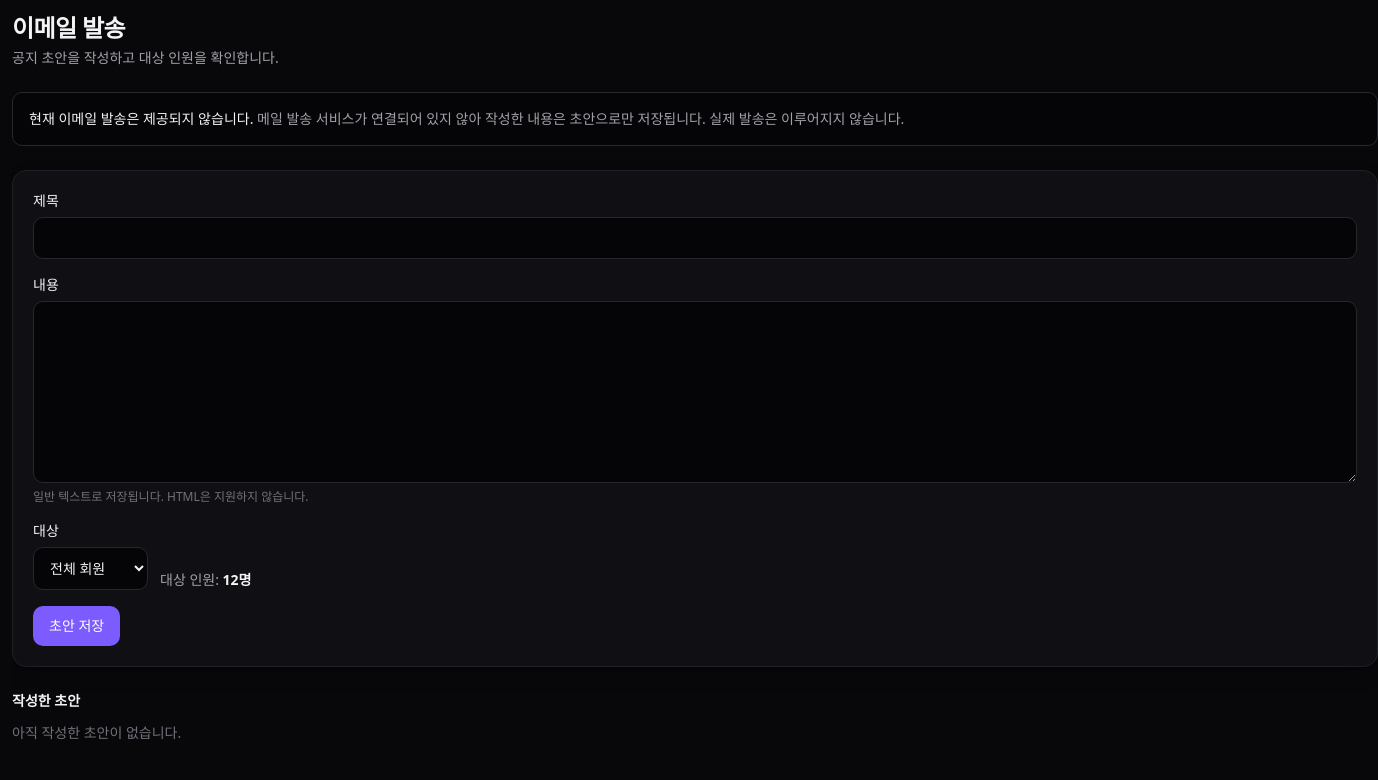
Test: email › confirms that a saved draft was not sent
In the field labelled "제목": (695, 238) [33,217,1357,259], type "8월 공지"
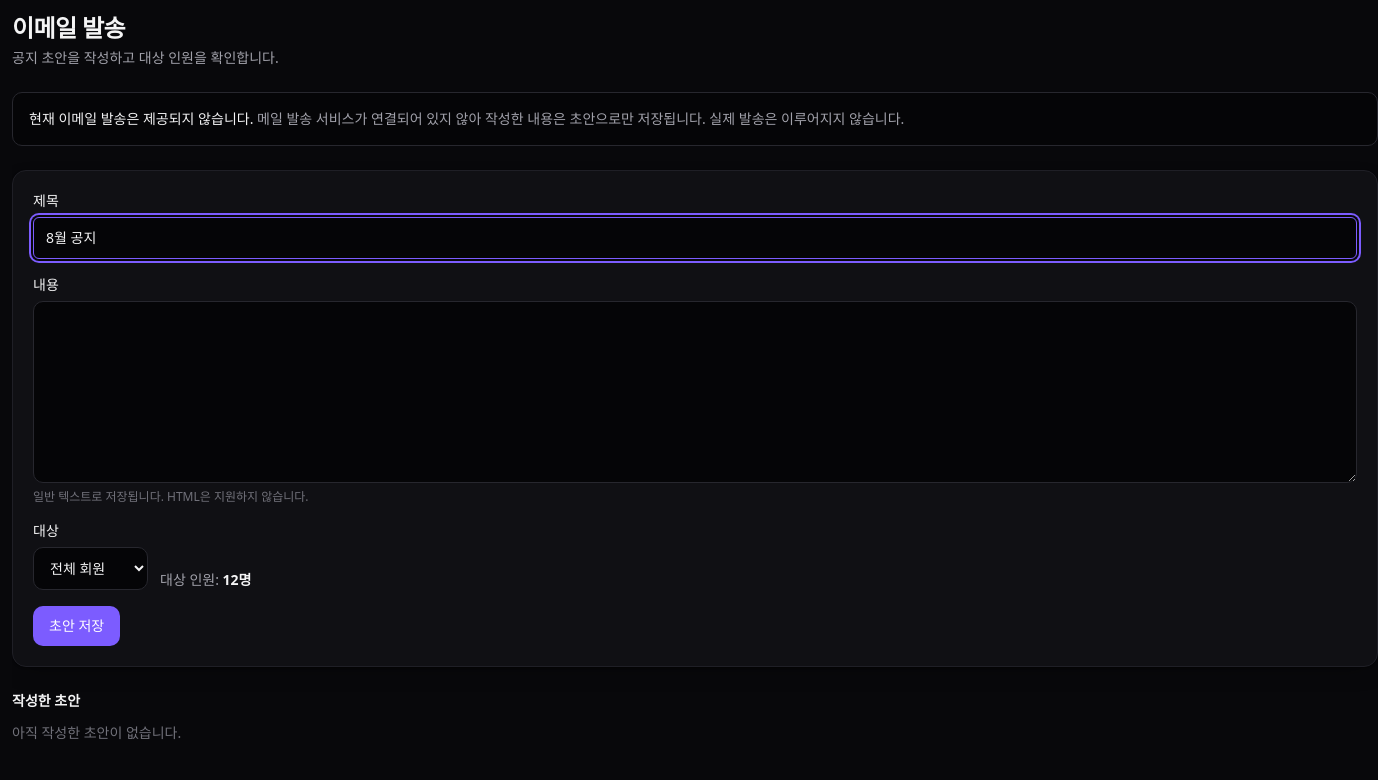
In the text box labelled "내용": (695, 392) [33,301,1357,483], type "새로운 기능을 소개합니다."
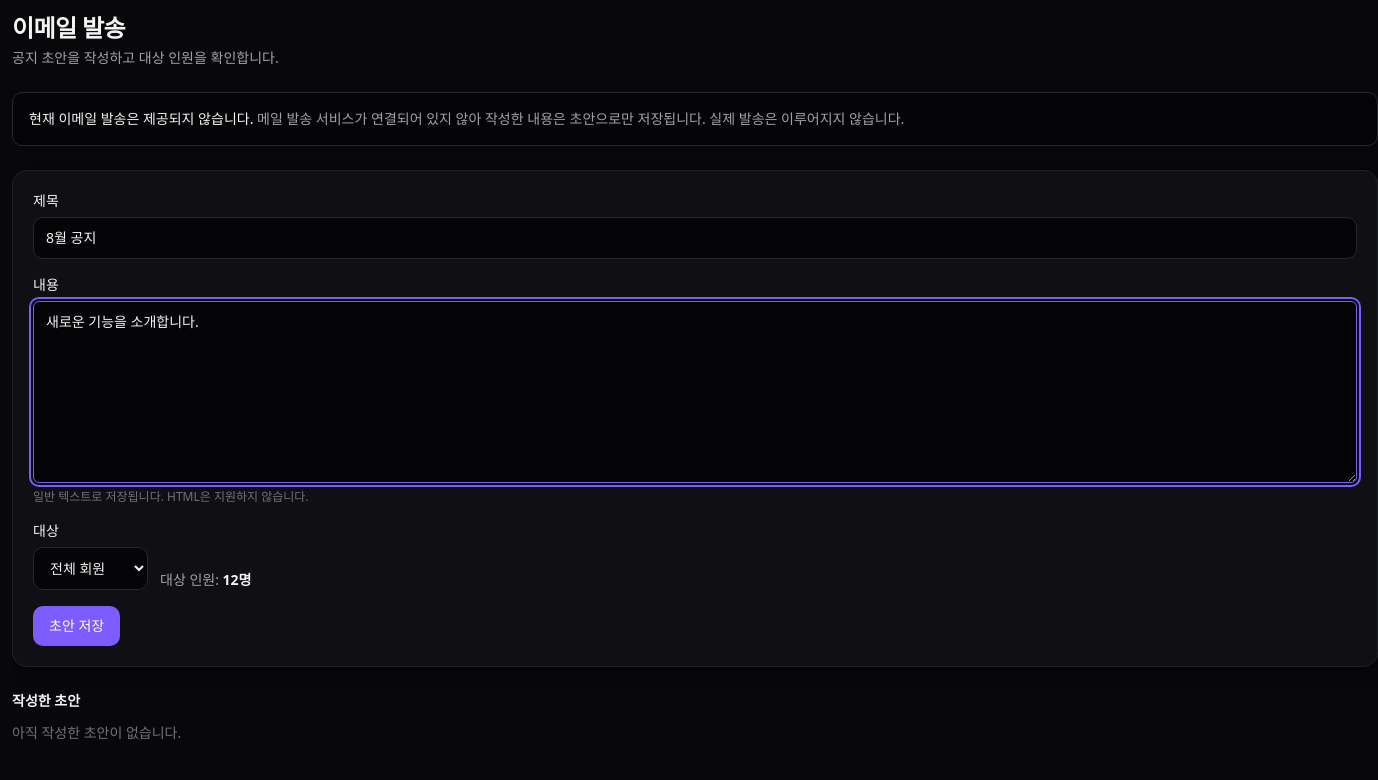
Click the button "초안 저장": (77, 626) [33,606,120,646]
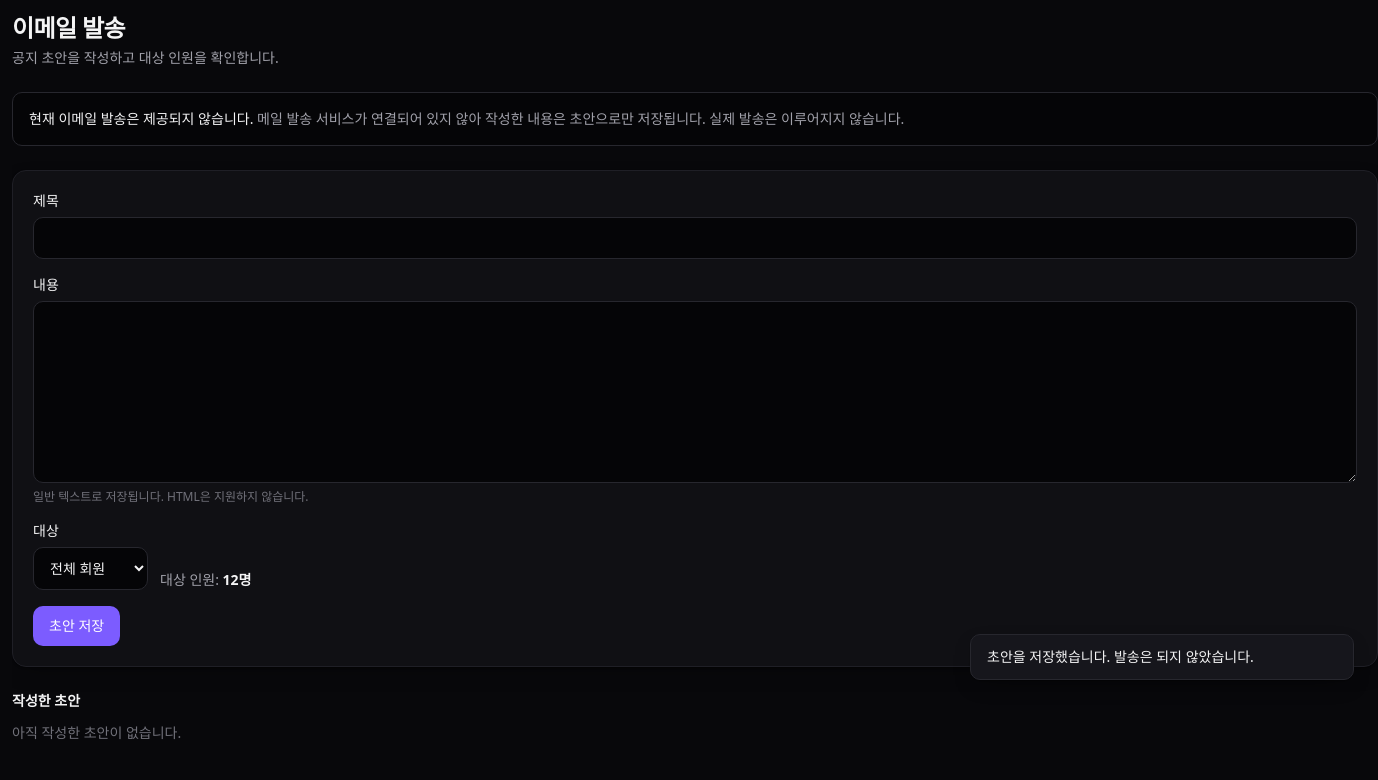
Expected: the button "초안을 저장했습니다. 발송은 되지 않았습니다." is shown, [970,634,1354,680]
